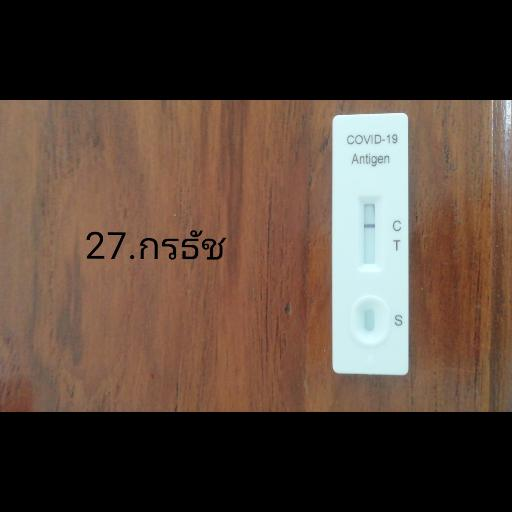Neg: (332, 114, 406, 374)
